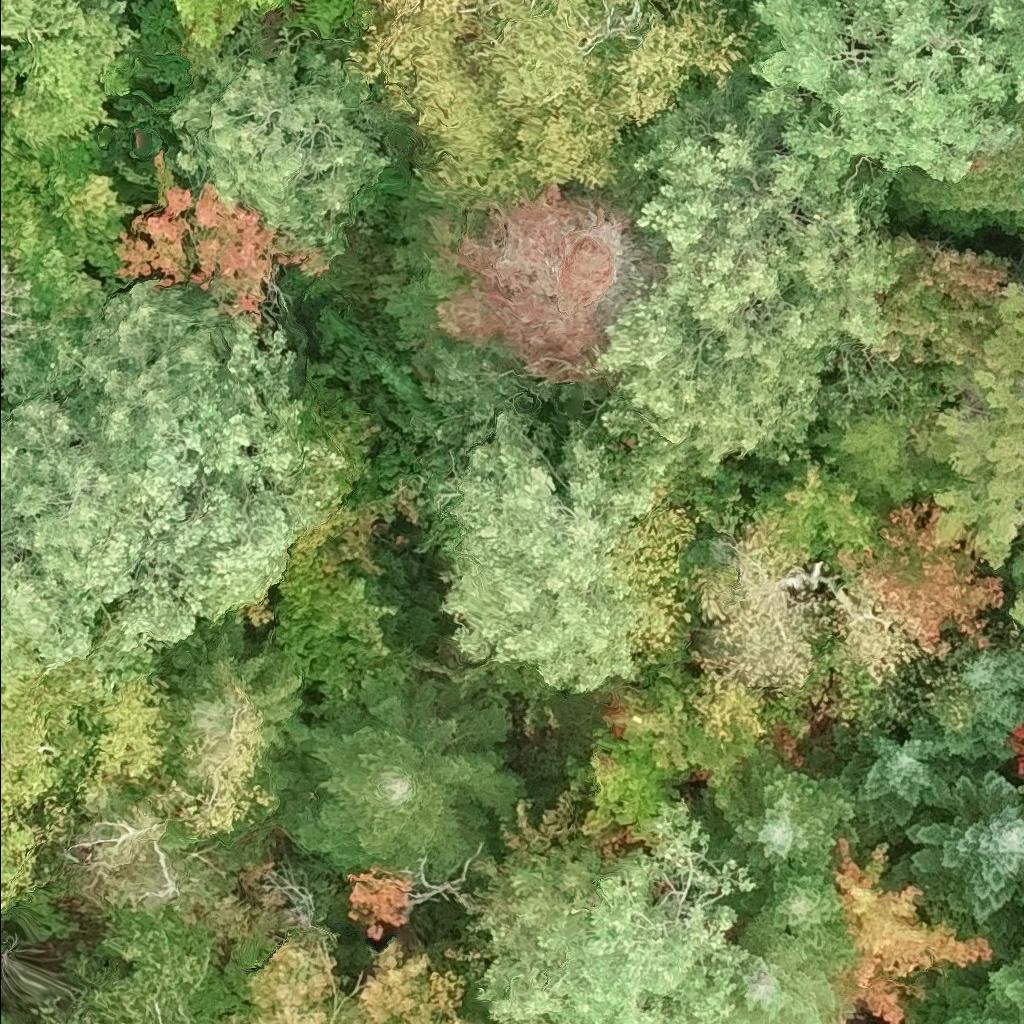crown: (582, 66, 898, 497), (418, 342, 671, 696), (85, 319, 342, 667), (467, 805, 756, 1023), (170, 30, 395, 270), (749, 0, 1020, 199), (283, 671, 524, 883), (481, 0, 759, 181), (569, 664, 813, 863), (0, 278, 239, 475), (0, 380, 148, 676), (354, 0, 561, 201), (0, 669, 157, 912), (929, 278, 1023, 628), (691, 511, 844, 699), (840, 498, 1002, 660), (0, 135, 135, 319), (870, 235, 1012, 401), (893, 770, 1023, 927), (0, 0, 136, 145), (813, 575, 937, 733), (889, 94, 1023, 239), (717, 755, 860, 888), (747, 451, 888, 577), (832, 712, 965, 844), (47, 928, 206, 1023), (736, 866, 859, 977), (223, 922, 343, 1023), (329, 950, 484, 1023), (944, 653, 1023, 760), (732, 949, 837, 1023), (166, 0, 276, 55), (967, 0, 1023, 105), (0, 252, 57, 345), (912, 970, 1012, 1023), (982, 948, 1023, 1023), (0, 58, 17, 142)
